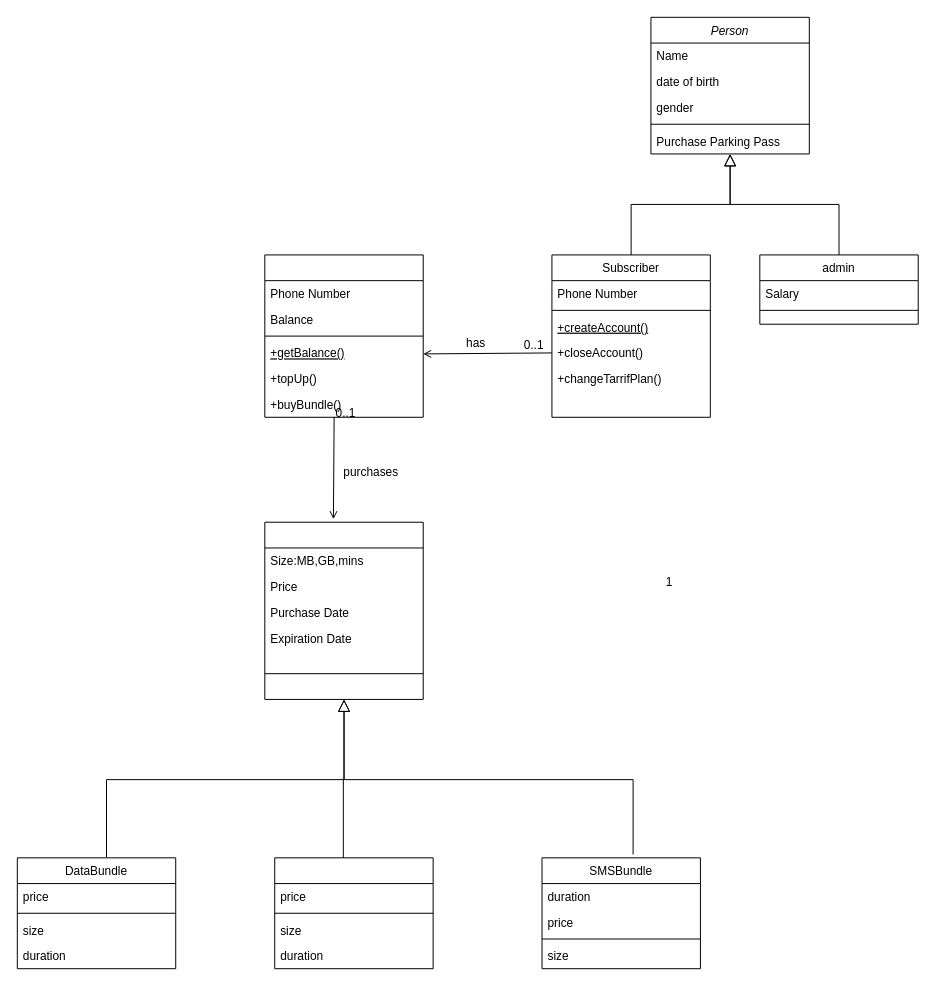
This 936x989 diagram has some shape labels left out. Each missing label, with the box of its shape:
Account: (264, 254, 423, 417)
Bundle: (264, 521, 423, 699)
VoiceBundle: (274, 857, 433, 969)
